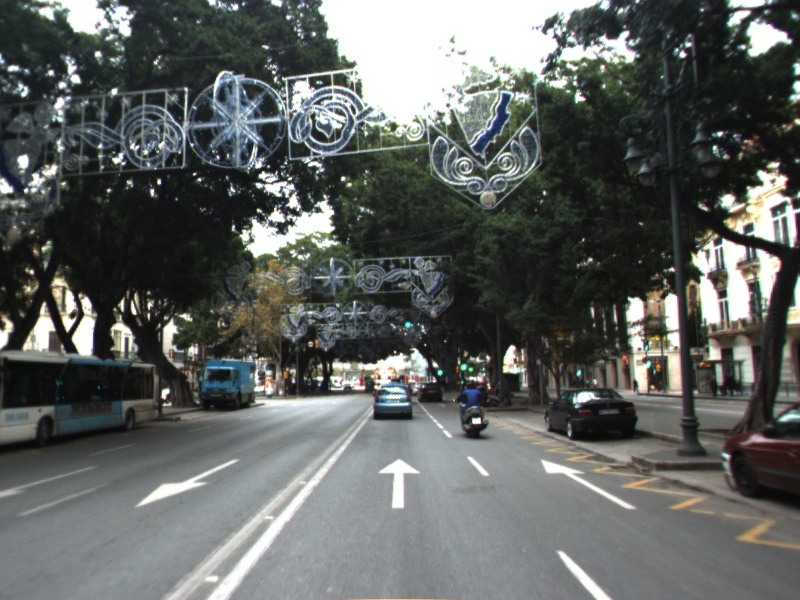STRAIGHT: (539, 458, 639, 512), (376, 457, 422, 511)
